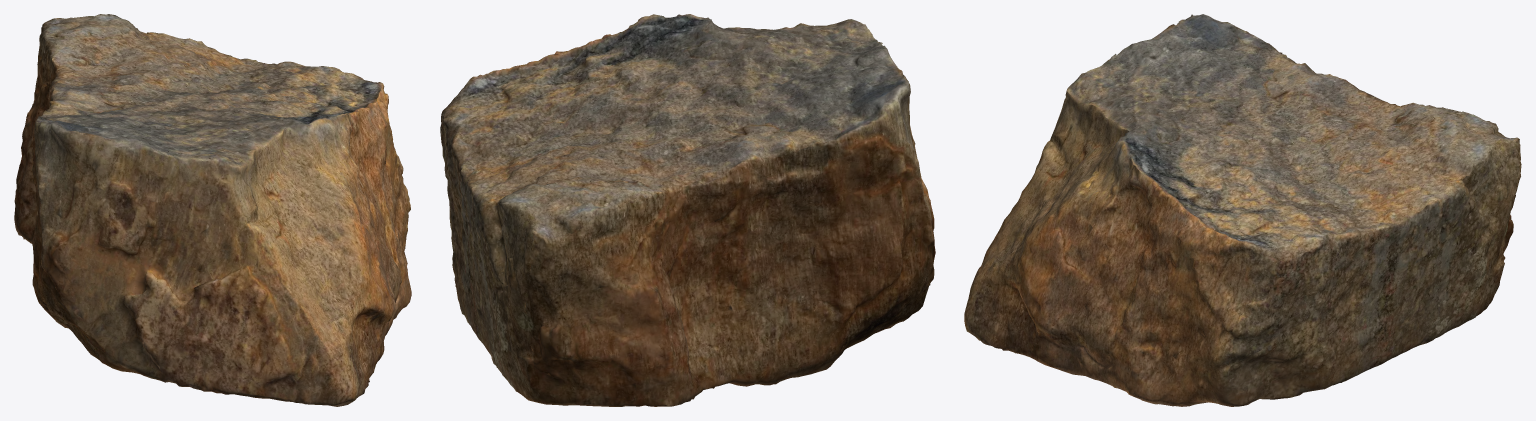
Rendered from namaqualand-boulder-03.glb.
3 renders of one model, left to right at view 1: azimuth 30°, elevation 25°; view 2: azimuth 150°, elevation 25°; view 3: azimuth 270°, elevation 25°, orthographic. The views are drawn at different scales.
Parts seen in each view (by area): view 1: boulder_03_LOD0; view 2: boulder_03_LOD0; view 3: boulder_03_LOD0.
Part boxes in pixels (x1,y1,x2,y2): boulder_03_LOD0: [14, 14, 411, 406]; boulder_03_LOD0: [440, 14, 935, 406]; boulder_03_LOD0: [964, 14, 1521, 406].
Size of the model in its own units: 2.41 by 1.47 by 3.07.
1 material, 1 textured.
